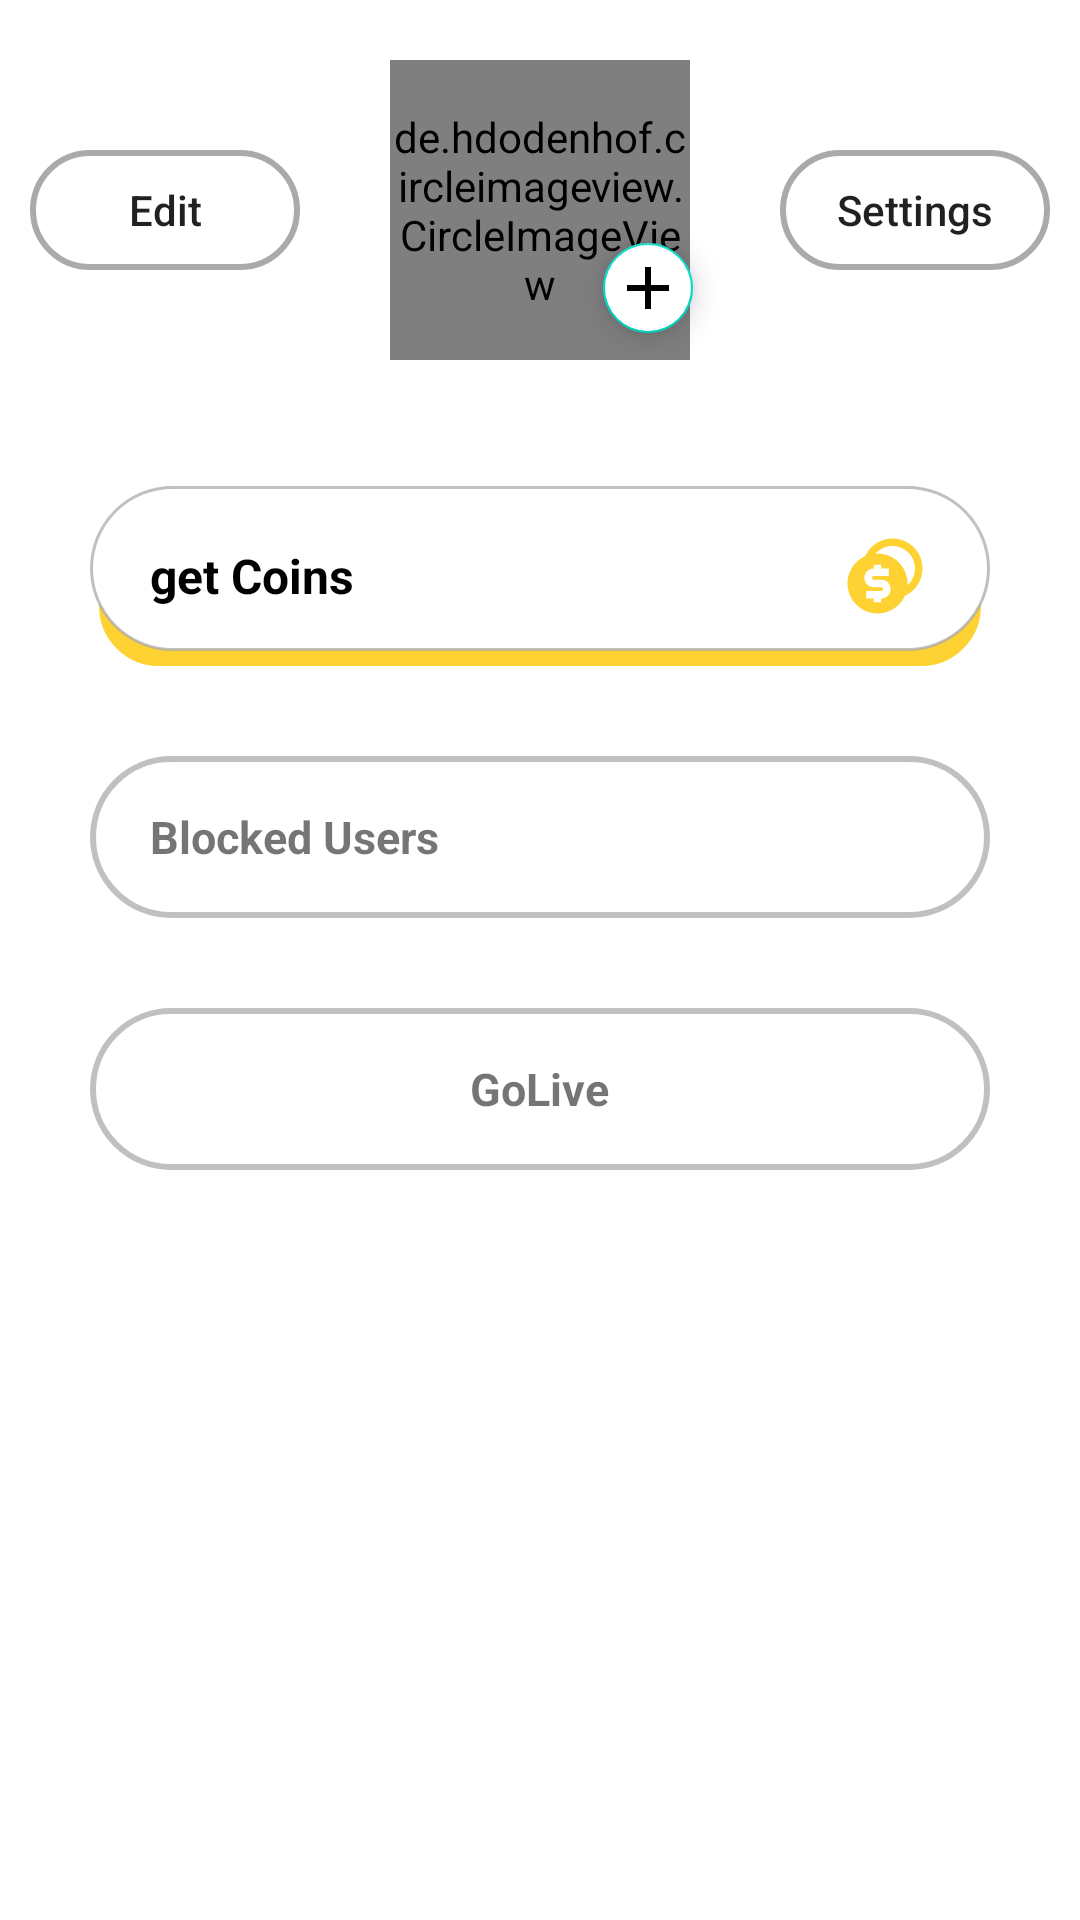

Locate icon controls on the screen. Image size 1080 × 1920, boxes as (x1, y1, x2, y2).
coin: (847, 538, 923, 614)
